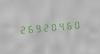four: (57, 19, 64, 32)
nine: (33, 21, 40, 34)
six: (65, 18, 72, 32), (25, 22, 32, 35)
two: (17, 22, 24, 36), (41, 20, 48, 34)
zero: (73, 17, 80, 31), (49, 20, 56, 33)
